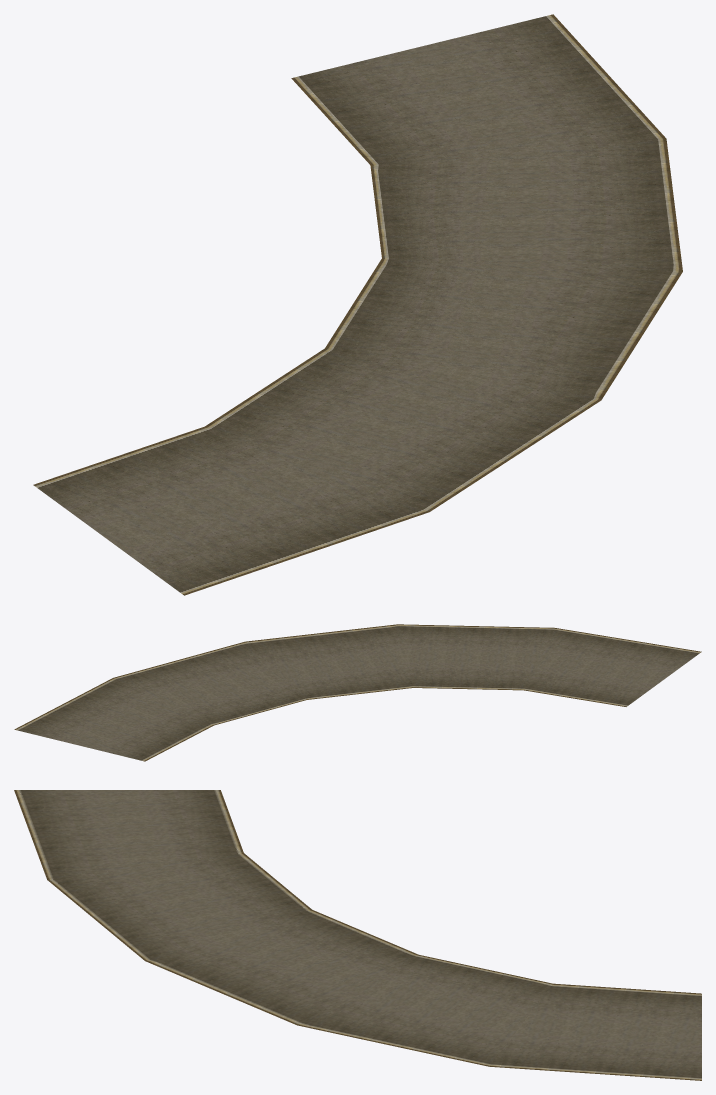
Rendered from road_left.FBX.
3 renders of one model, top to bottom at view 1: azimuth 30°, elevation 25°; view 2: azimuth 150°, elevation 25°; view 3: azimuth 270°, elevation 25°, orthographic. The views are drawn at different scales.
Parts seen in each view (by area): view 1: Road_Turn_Large_B; view 2: Road_Turn_Large_B; view 3: Road_Turn_Large_B.
Part boxes in pixels (x1=…): Road_Turn_Large_B: x1=33, y1=14, x2=682, y2=595; Road_Turn_Large_B: x1=14, y1=624, x2=701, y2=761; Road_Turn_Large_B: x1=14, y1=790, x2=701, y2=1080.
Size of the model in its own units: 2093 by 0.121 by 2092.
